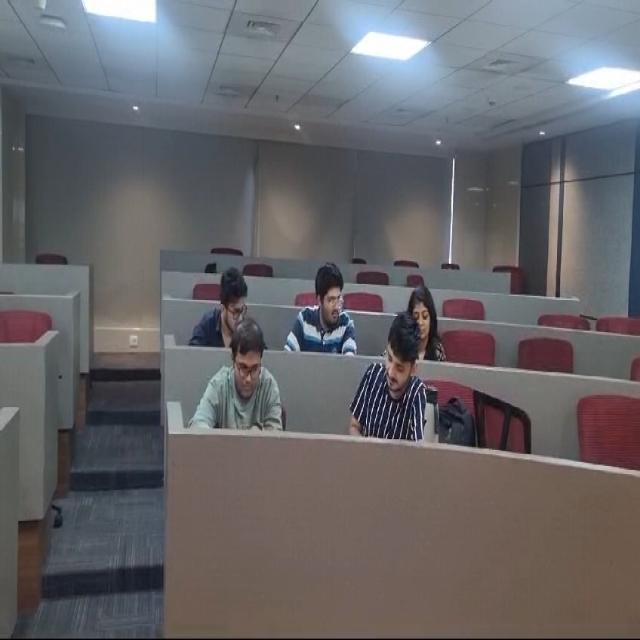cheating: (292, 270, 366, 356), (209, 272, 255, 336)
non-cheating: (359, 315, 427, 442), (222, 329, 284, 429), (401, 279, 448, 360)
